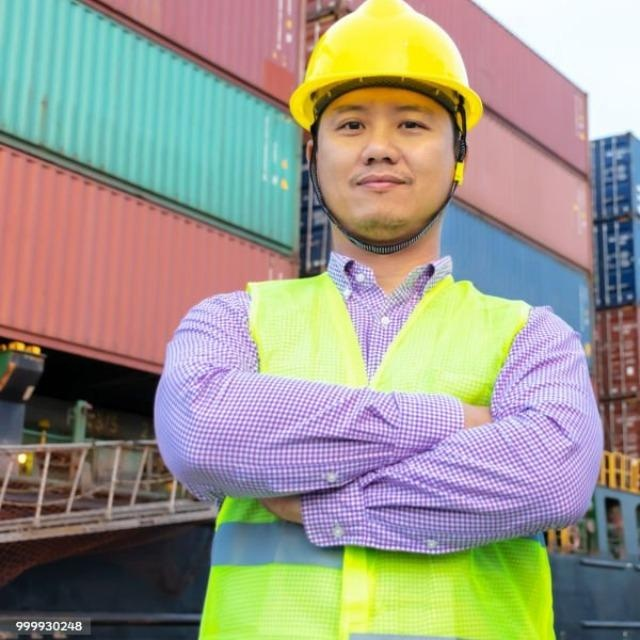Con_Casco: (283, 0, 481, 250)
Con_Chaleco: (207, 261, 559, 640)
